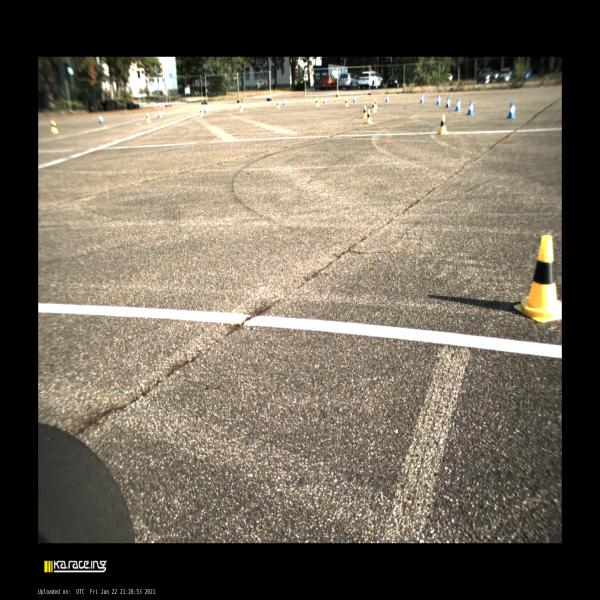blue_cone: (506, 102, 516, 119), (467, 101, 474, 115), (455, 99, 461, 111), (445, 97, 451, 108), (436, 95, 441, 105), (157, 110, 162, 118), (420, 94, 424, 103), (99, 116, 104, 123), (204, 105, 208, 113), (385, 95, 389, 102), (353, 95, 356, 103), (323, 96, 326, 104), (283, 99, 286, 106)
yellow_cone: (514, 235, 562, 322), (438, 114, 448, 134), (365, 109, 372, 124), (53, 122, 59, 133), (362, 106, 367, 118), (372, 102, 377, 112), (146, 113, 151, 123), (344, 98, 349, 107), (199, 108, 204, 117), (374, 99, 378, 108), (276, 101, 280, 108), (239, 105, 243, 112), (316, 99, 318, 106)
